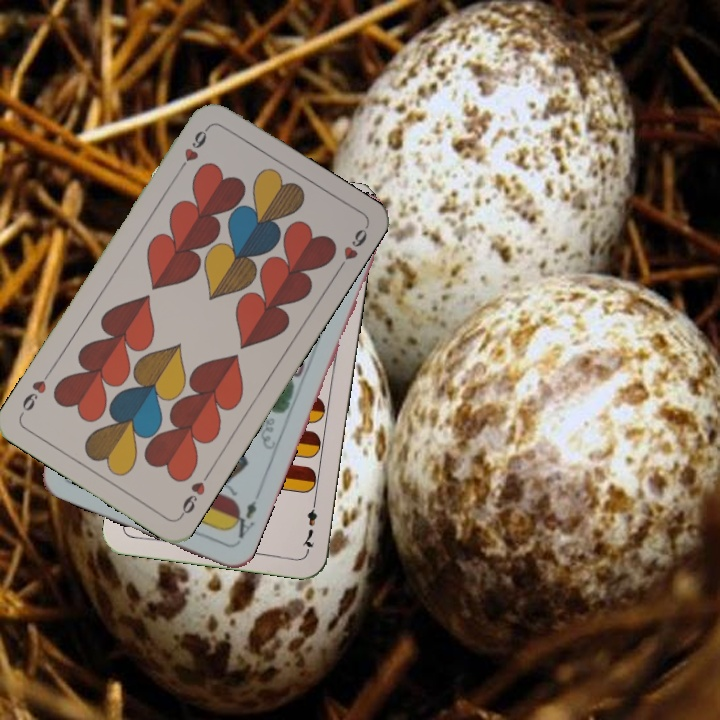E7: (298, 495, 320, 554)
EA: (226, 496, 260, 545)
H9: (173, 123, 212, 175), (175, 468, 213, 520)
